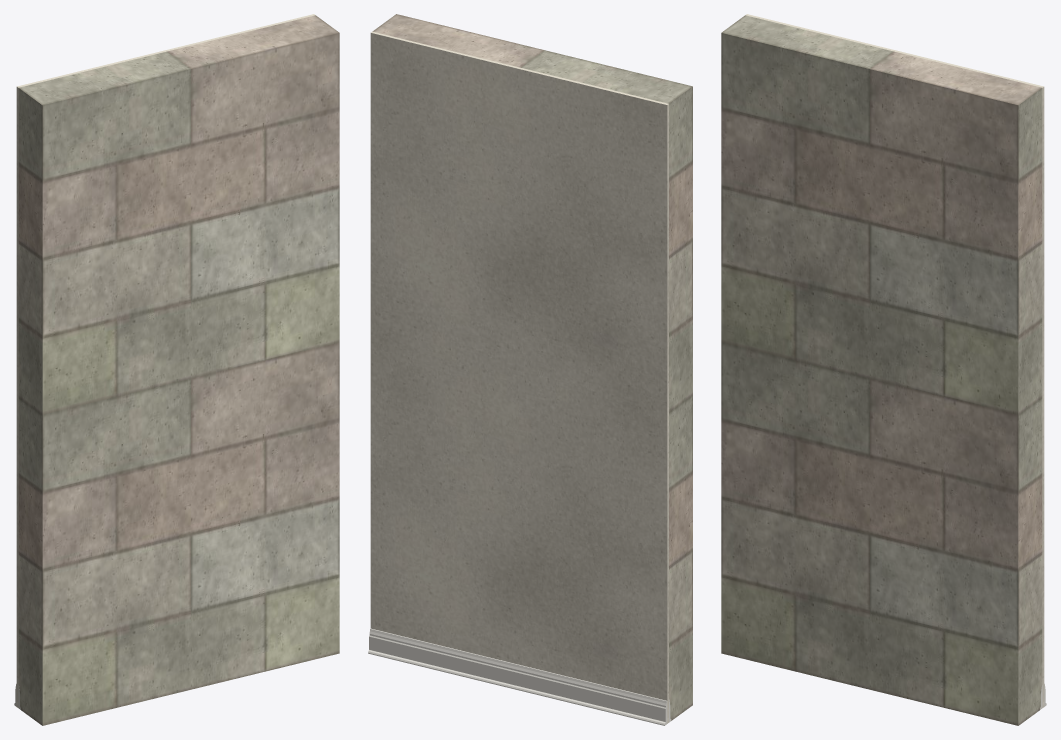
File: lib_wall_up_plain.glb
3 views of the same model, side by side, from view 1: azimuth 30°, elevation 25°; view 2: azimuth 150°, elevation 25°; view 3: azimuth 330°, elevation 25° (orthographic).
Visible parts, largest first — view 1: lib_wall_up_plain_stone, lib_wall_up_plain_plaster; view 2: lib_wall_up_plain_plaster, lib_wall_up_plain_stone, molduras; view 3: lib_wall_up_plain_stone, lib_wall_up_plain_plaster.
Boxes of the visible parts, box(x1,y1,x2,y2) form: lib_wall_up_plain_stone: box(18, 15, 339, 725); lib_wall_up_plain_plaster: box(16, 14, 315, 707); lib_wall_up_plain_plaster: box(370, 31, 668, 723); lib_wall_up_plain_stone: box(372, 14, 692, 720); molduras: box(368, 628, 671, 725); lib_wall_up_plain_stone: box(721, 15, 1042, 725); lib_wall_up_plain_plaster: box(745, 14, 1044, 707).
Size of the model in its own units: 2 by 3.99 by 0.33.
3 materials, 2 textured.
